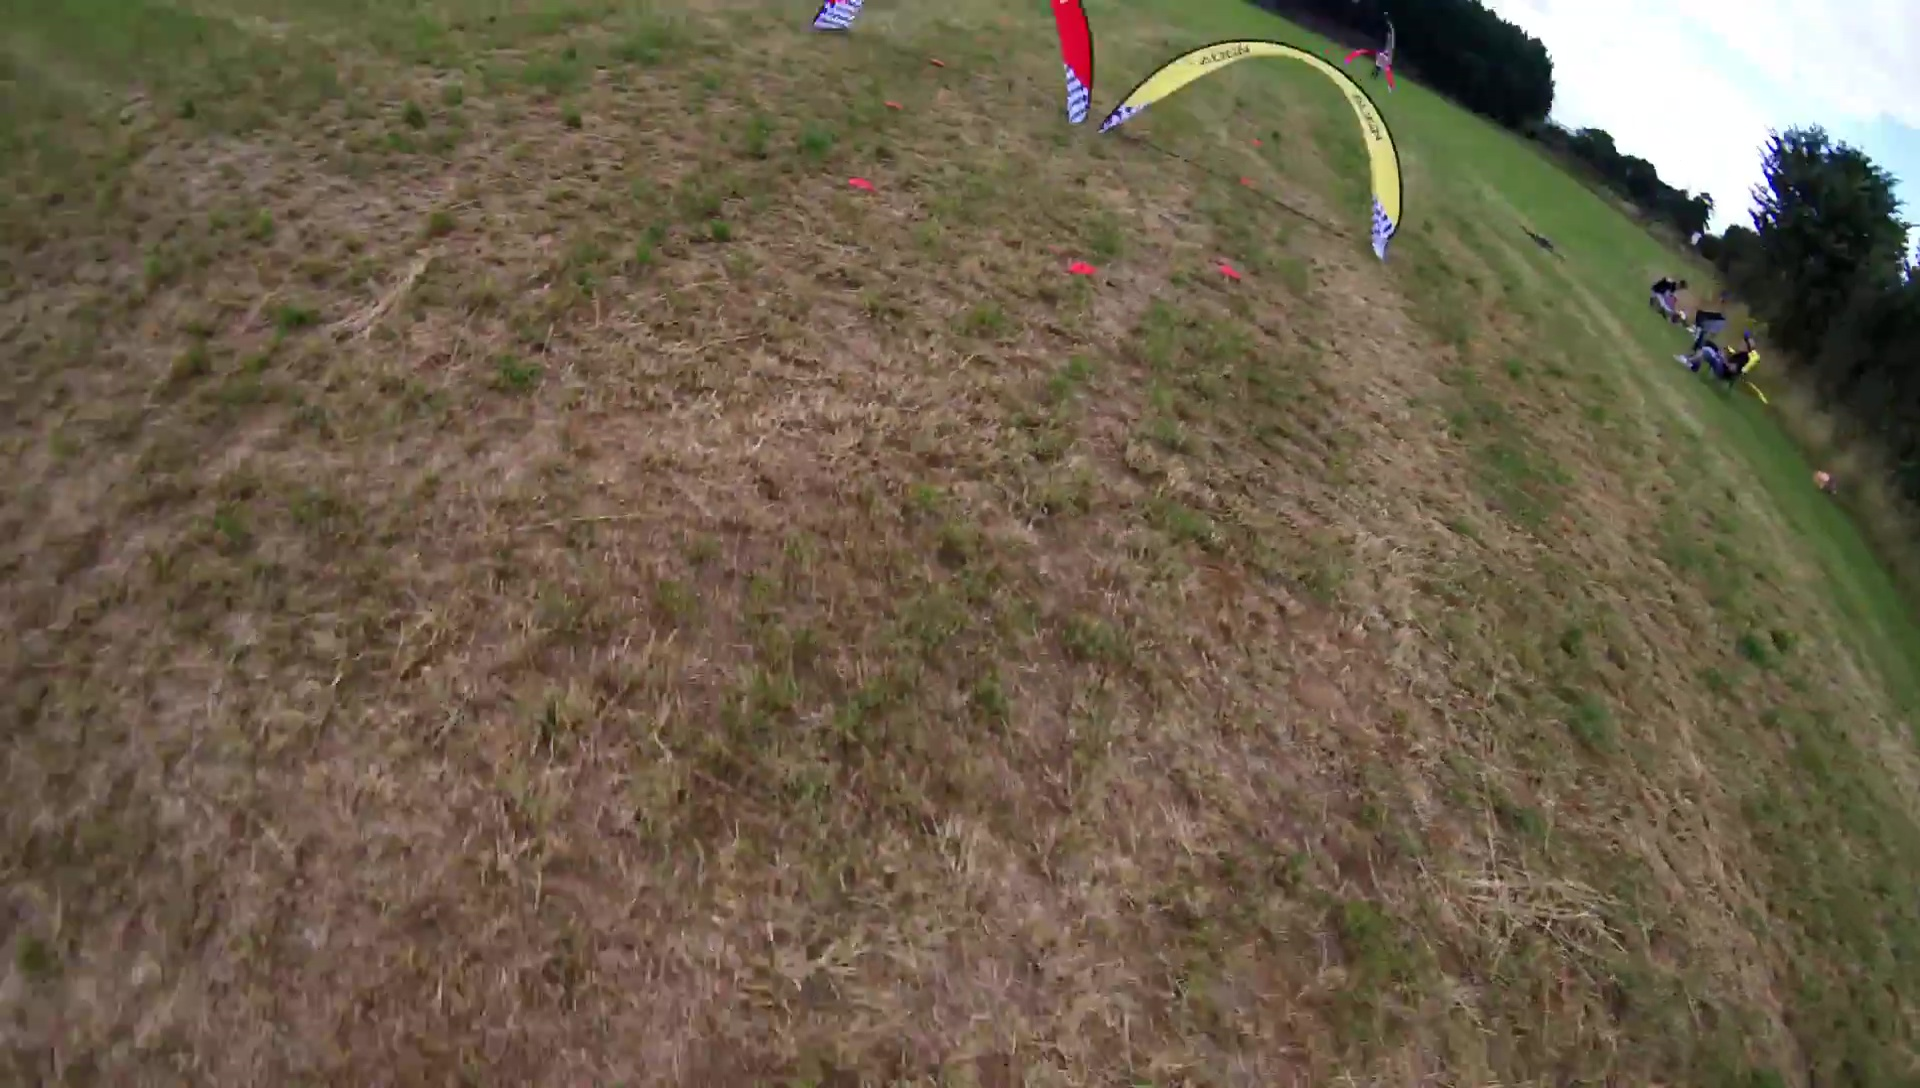gate: (1098, 42, 1406, 266), (810, 1, 1096, 127)
